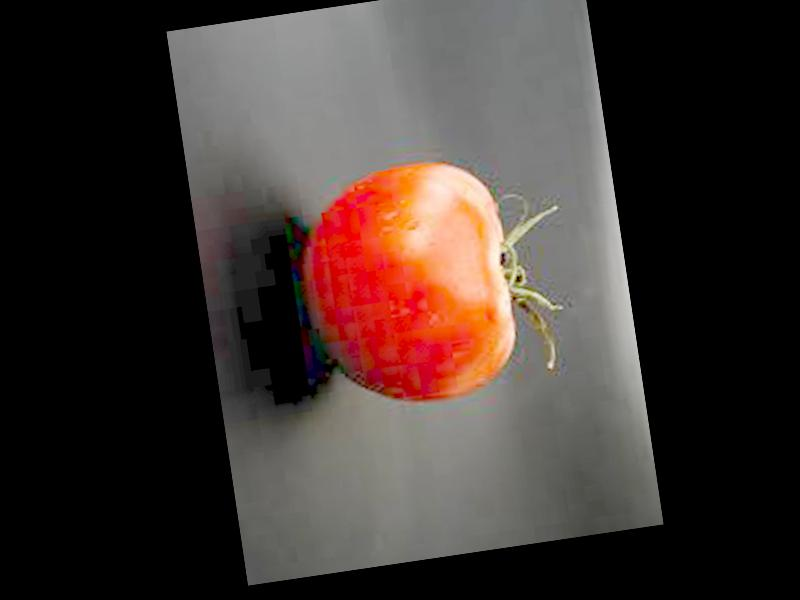Tomato: (292, 150, 524, 415)
